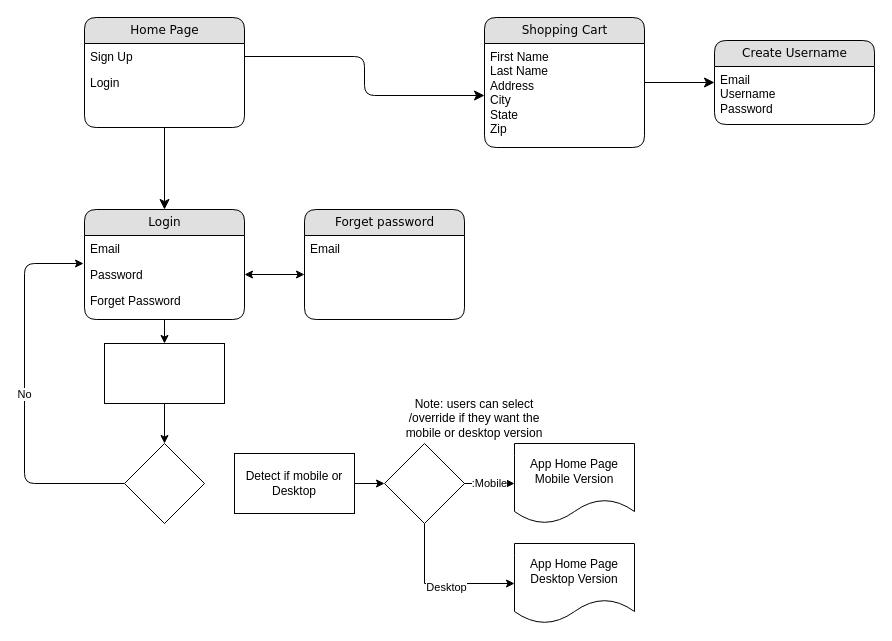
Some shapes in this 892 by 641 pixel diagram are drawn without their labels. The shapes that lost their labels are listed below. From the top down, each one's centre as x and y in pixels, then its label:
At point (164, 373): "Check Username / Password".
At point (164, 483): "Username/PW Correct Y/N".
At point (424, 483): "Mobile Y/N".
